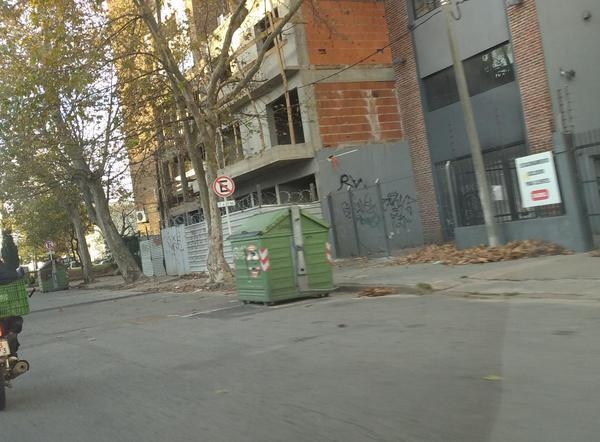Trash: (227, 208, 335, 305), (38, 258, 68, 292)
